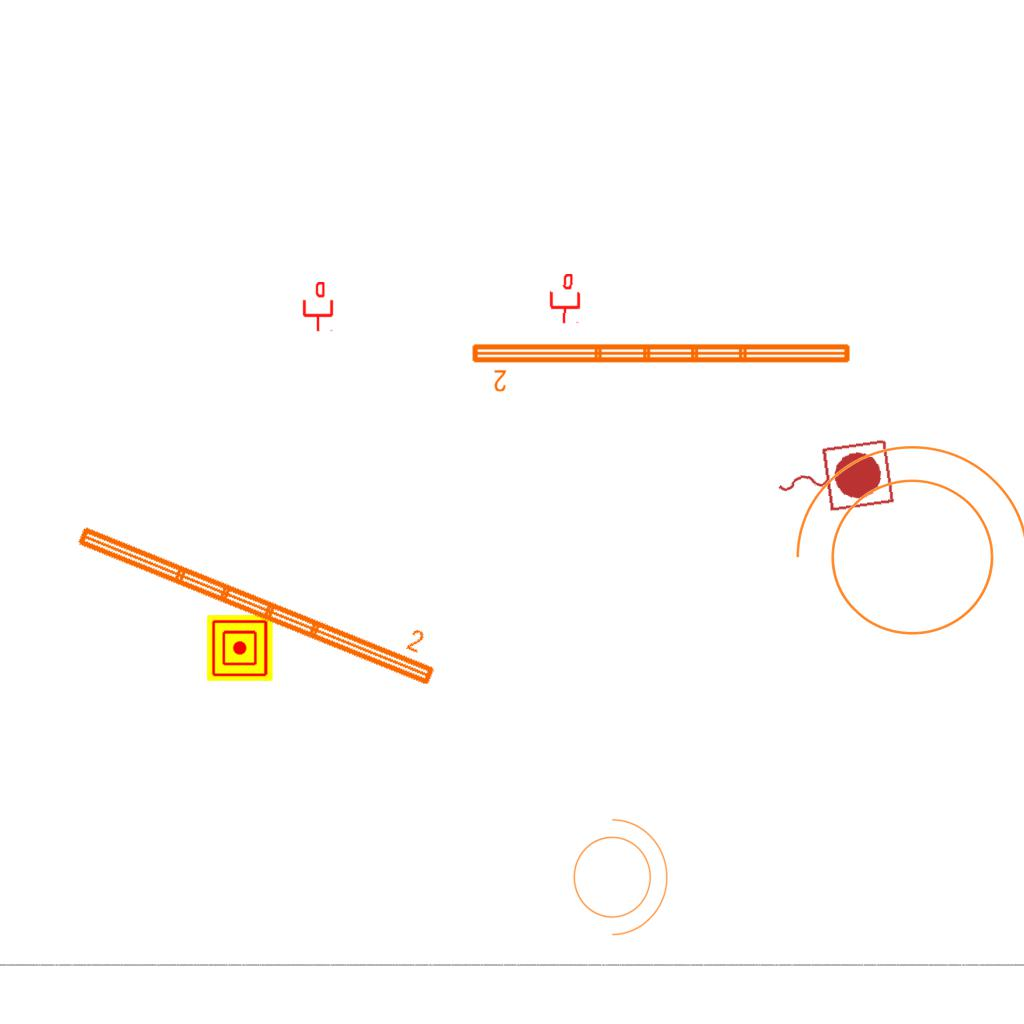Ambulanz_Pendelleuchte_LED: (70, 495, 451, 693), (468, 338, 855, 394)
Datenanschluss_einfach: (547, 273, 583, 325), (301, 282, 335, 332)
NAM-Nichtautomatischer_Melder: (207, 615, 273, 681)
Scheinwerfer_fuer_Alarmbeleuchtung: (774, 435, 1024, 660), (561, 808, 673, 940)
Zugtaster: (767, 433, 899, 523)
